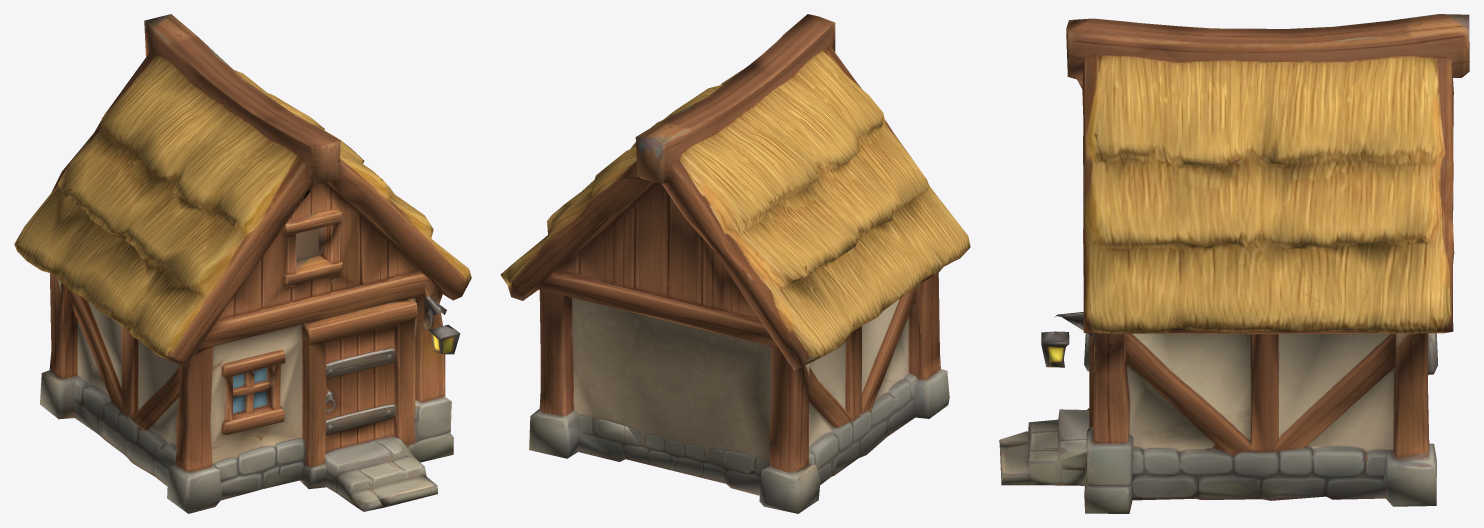
File: Meshy_AI_Thatched_Cottage_0418225656_texture.fbx
3 views of the same model, side by side, from view 1: azimuth 30°, elevation 25°; view 2: azimuth 150°, elevation 25°; view 3: azimuth 270°, elevation 25° (orthographic). The views are drawn at different scales.
Visible parts, largest first — view 1: Mesh1.0; view 2: Mesh1.0; view 3: Mesh1.0.
Part boxes in pixels (x1,y1,x2,y2): Mesh1.0: (14, 14, 471, 513); Mesh1.0: (500, 14, 970, 513); Mesh1.0: (999, 14, 1469, 513).
Size of the model in its own units: 175 by 186 by 191.
Materials: 1 (1 with a texture image).
